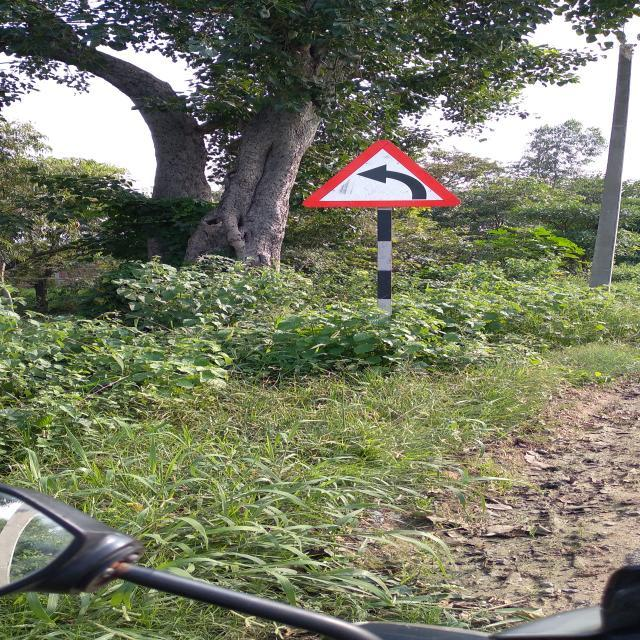left hand curve: (296, 136, 460, 210)
